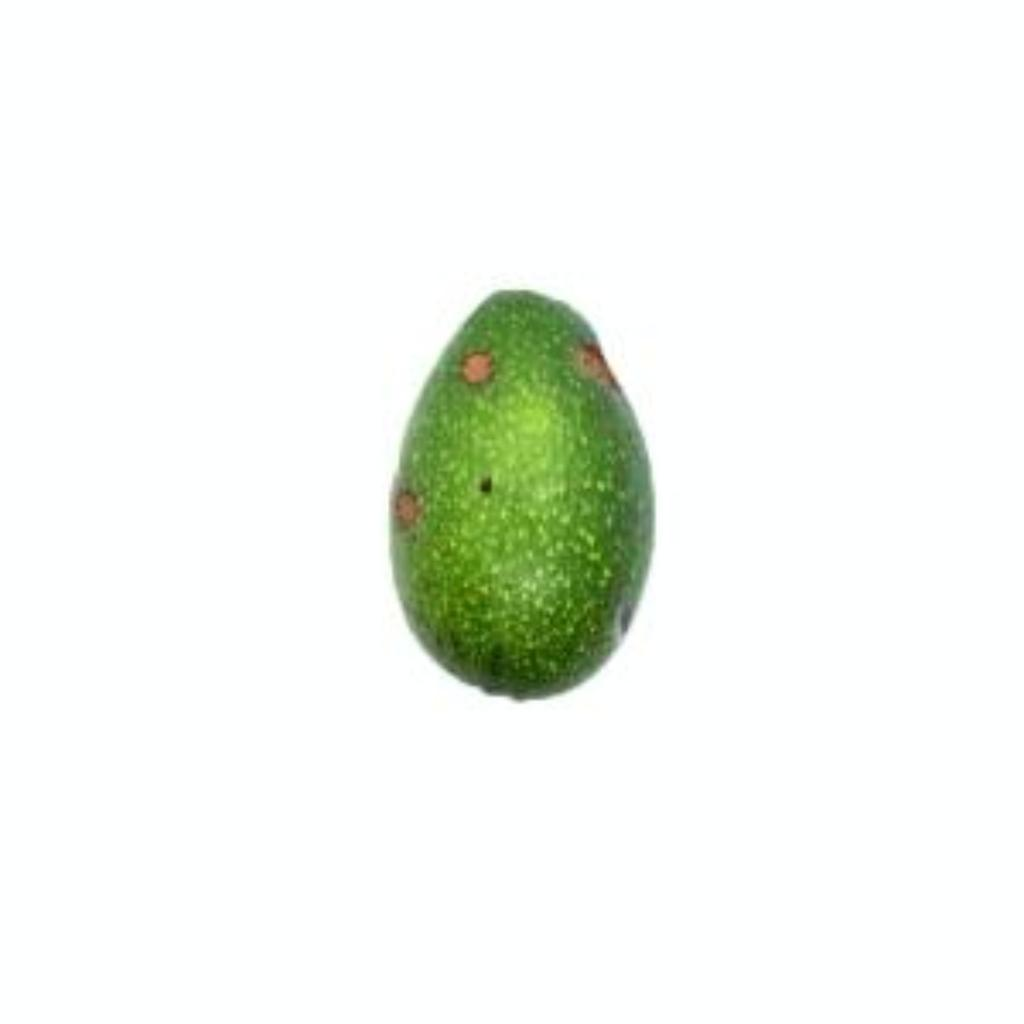cercospora_spot: (343, 274, 691, 712)
